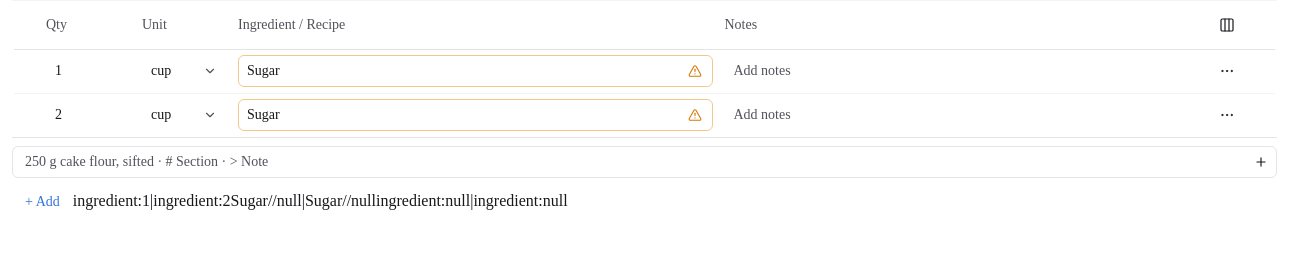
Test case: recipe items table rows › inserts a quick-add ingredient after the row being worked on
In the field named "Quick add ingredient": {"x": 644, "y": 162} [12, 146, 1277, 178], type "1 1/3 cups water"
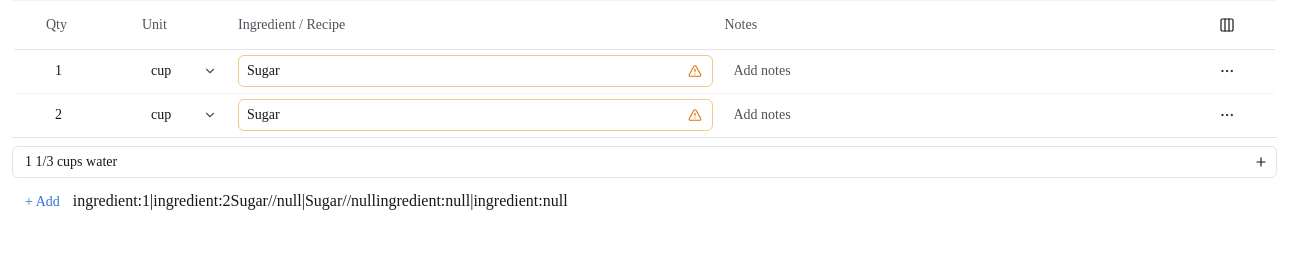
Press Enter in the field named "Quick add ingredient", box [12, 146, 1277, 178]
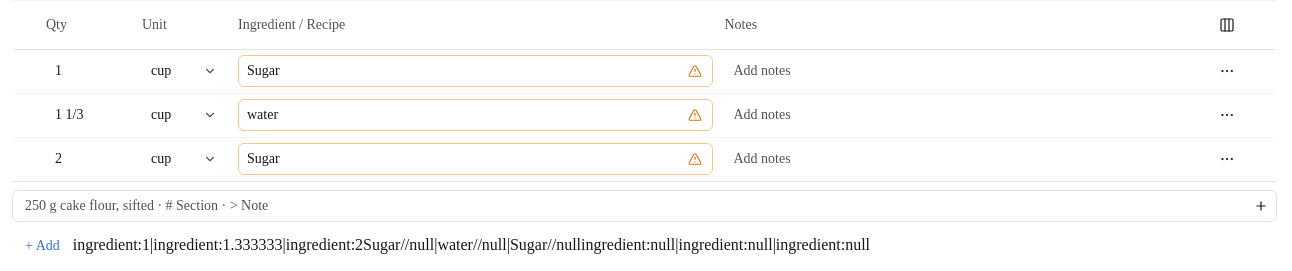
Check: the text with test id "order" reads "ingredient:1|ingredient:1.333333|ingredient:2", box [73, 236, 363, 253]
